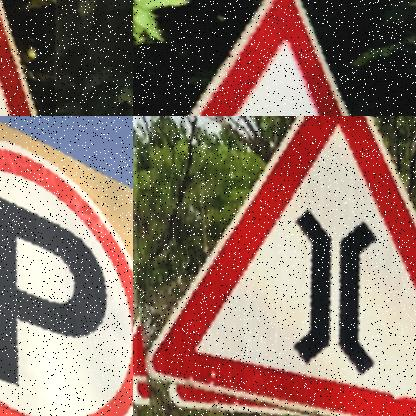Bridge Ahead: (137, 116, 416, 416)
Parking: (0, 120, 133, 416)
U-Turn: (186, 0, 348, 116)
